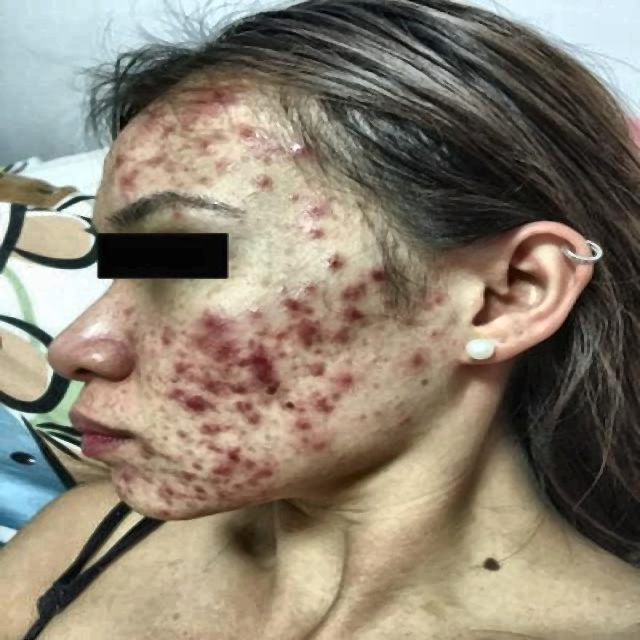nodule: (312, 388, 363, 419), (422, 286, 468, 318), (244, 455, 290, 484), (197, 486, 248, 512), (203, 460, 251, 487), (288, 428, 331, 458), (156, 476, 198, 506), (168, 354, 214, 381), (136, 110, 176, 140), (392, 348, 432, 378), (329, 367, 366, 398), (244, 350, 282, 380), (334, 281, 374, 309), (283, 121, 315, 154), (122, 170, 155, 202), (158, 378, 196, 405), (190, 414, 228, 441), (246, 161, 277, 194), (208, 439, 248, 464), (308, 354, 342, 382), (266, 418, 320, 435), (246, 317, 284, 341), (166, 452, 204, 476), (277, 288, 315, 311), (221, 390, 259, 413), (286, 317, 318, 343), (324, 310, 370, 328), (206, 76, 240, 100), (221, 373, 253, 398), (190, 303, 228, 324), (96, 144, 133, 165), (187, 392, 218, 417), (308, 221, 334, 250), (218, 338, 248, 362), (364, 255, 398, 276), (190, 131, 224, 152), (206, 152, 237, 175), (333, 325, 365, 347), (315, 250, 352, 269), (242, 125, 268, 151), (154, 322, 178, 349), (291, 192, 314, 216), (235, 408, 267, 425), (152, 502, 178, 522), (275, 395, 301, 414), (421, 323, 445, 342), (188, 326, 210, 346), (134, 439, 157, 458), (392, 410, 416, 428), (110, 484, 134, 502), (259, 380, 283, 398), (242, 303, 268, 318), (171, 421, 189, 442), (138, 468, 158, 485), (314, 464, 336, 479), (117, 466, 136, 483)
